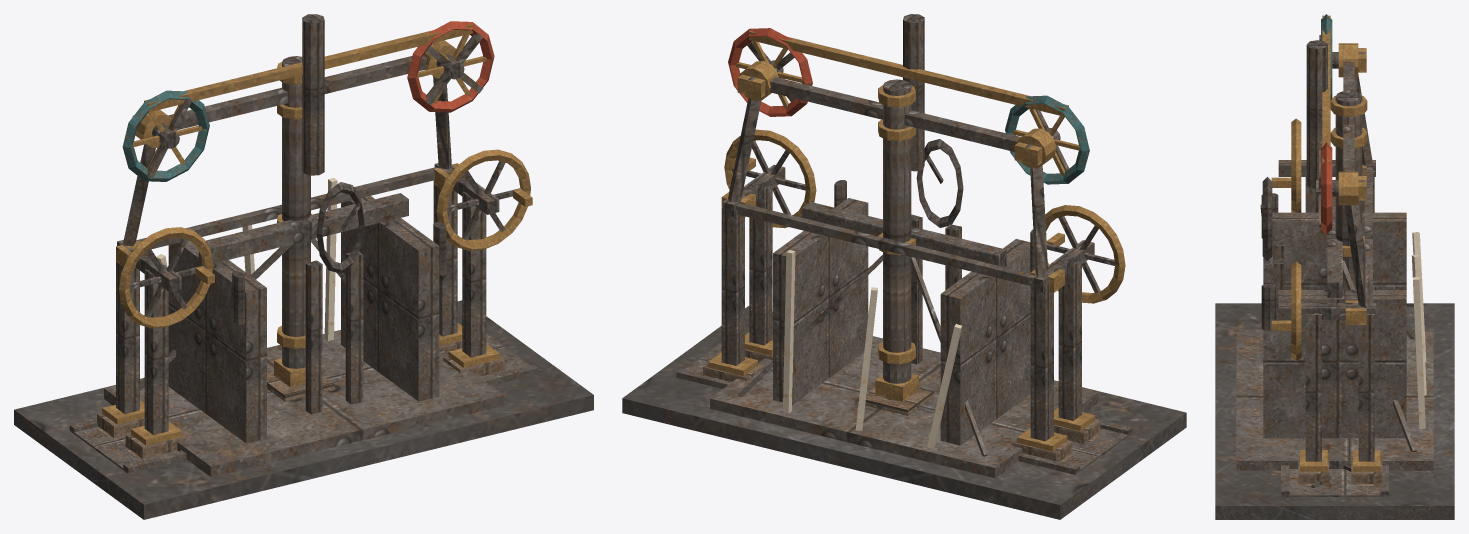
The model's file is canal-segment-c-marker.glb.
3 renders of one model, left to right at view 1: azimuth 30°, elevation 25°; view 2: azimuth 150°, elevation 25°; view 3: azimuth 270°, elevation 25°, orthographic. The views are drawn at different scales.
Parts seen in each view (by area): view 1: canal-segment-c-marker; view 2: canal-segment-c-marker; view 3: canal-segment-c-marker.
Boxes of the visible parts, <box> form: canal-segment-c-marker: <box>14,14,593,519</box>; canal-segment-c-marker: <box>622,14,1186,519</box>; canal-segment-c-marker: <box>1215,14,1454,519</box>.
Size of the model in its own units: 6.8 by 5.86 by 3.4.
1 material, 1 textured.
